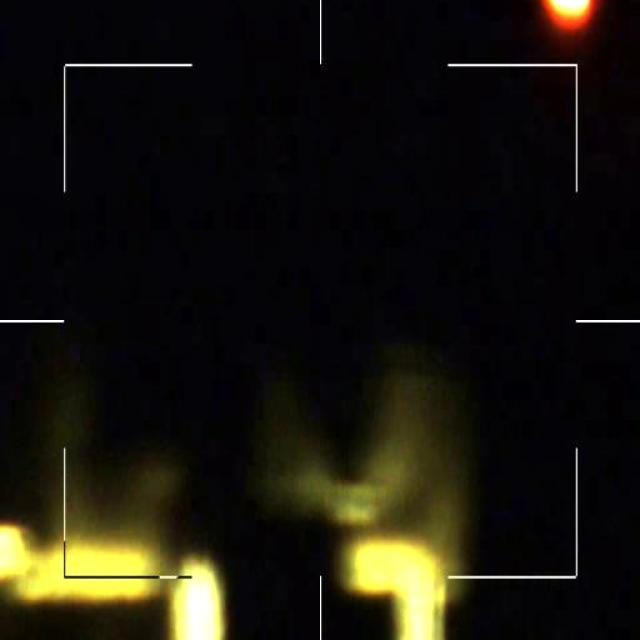bird: (538, 0, 596, 22)
